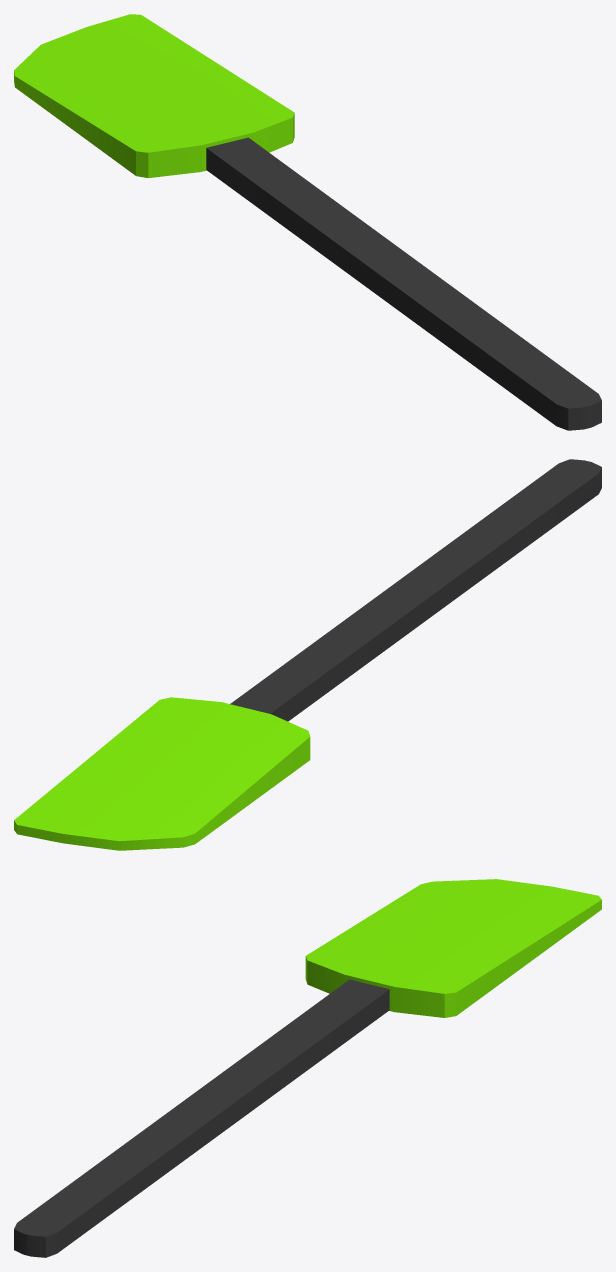
Rendered from Rubber_Spatula_5.FBX.
The picture shows the model from 3 angles, top to bottom: view 1: azimuth 30°, elevation 25°; view 2: azimuth 150°, elevation 25°; view 3: azimuth 330°, elevation 25°; orthographic projection. The views are drawn at different scales.
Parts seen in each view (by area): view 1: Rubber_Spatula; view 2: Rubber_Spatula; view 3: Rubber_Spatula.
Part boxes in pixels (x1,y1,x2,y2): Rubber_Spatula: (14,14,601,430); Rubber_Spatula: (14,459,601,850); Rubber_Spatula: (14,879,601,1257).
Size of the model in its own units: 15 by 2.41 by 86.77.
